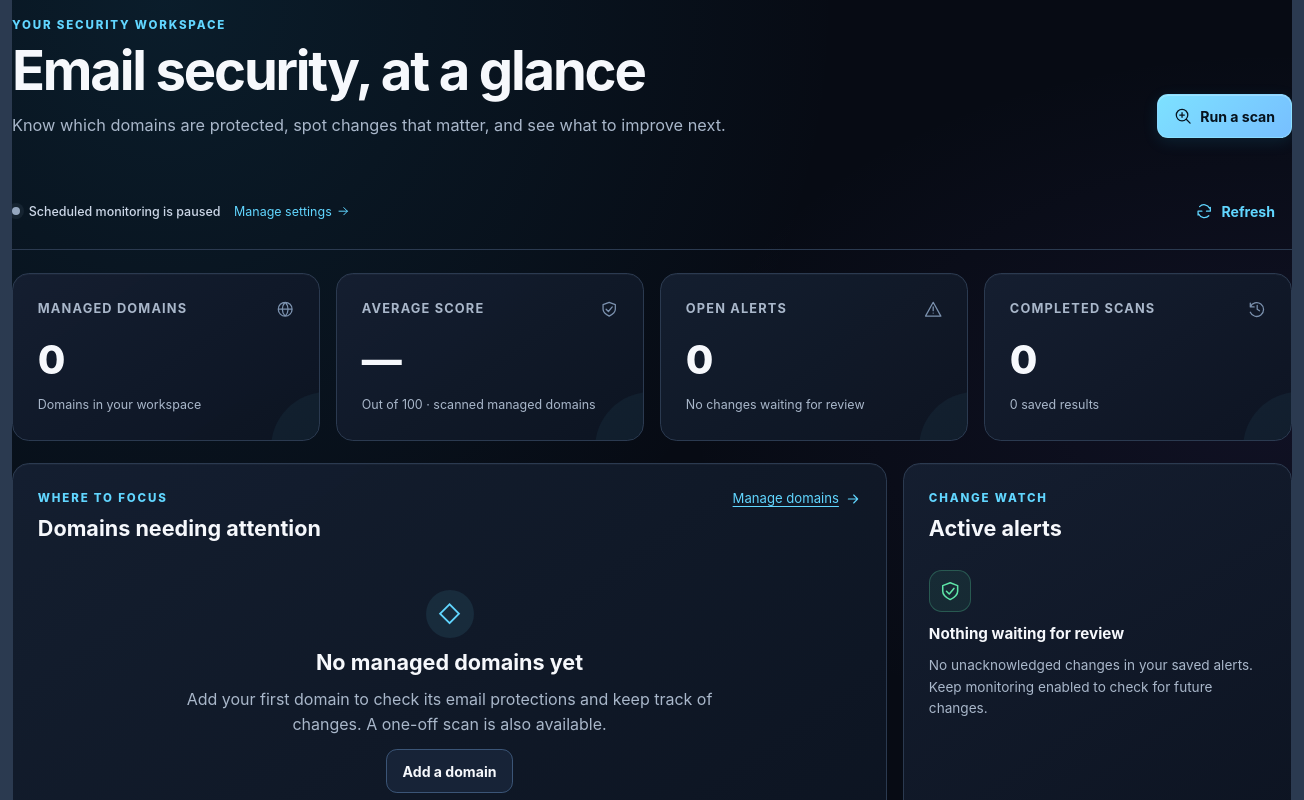
Test: Dashboard overview › refreshes saved data without starting a new domain scan
expect the text "Scheduled monitoring is paused" is shown: met, box [29, 204, 220, 219]
Step 1. Click the button with aria-label "Refresh overview" → (1235, 211), box [1178, 189, 1292, 233]
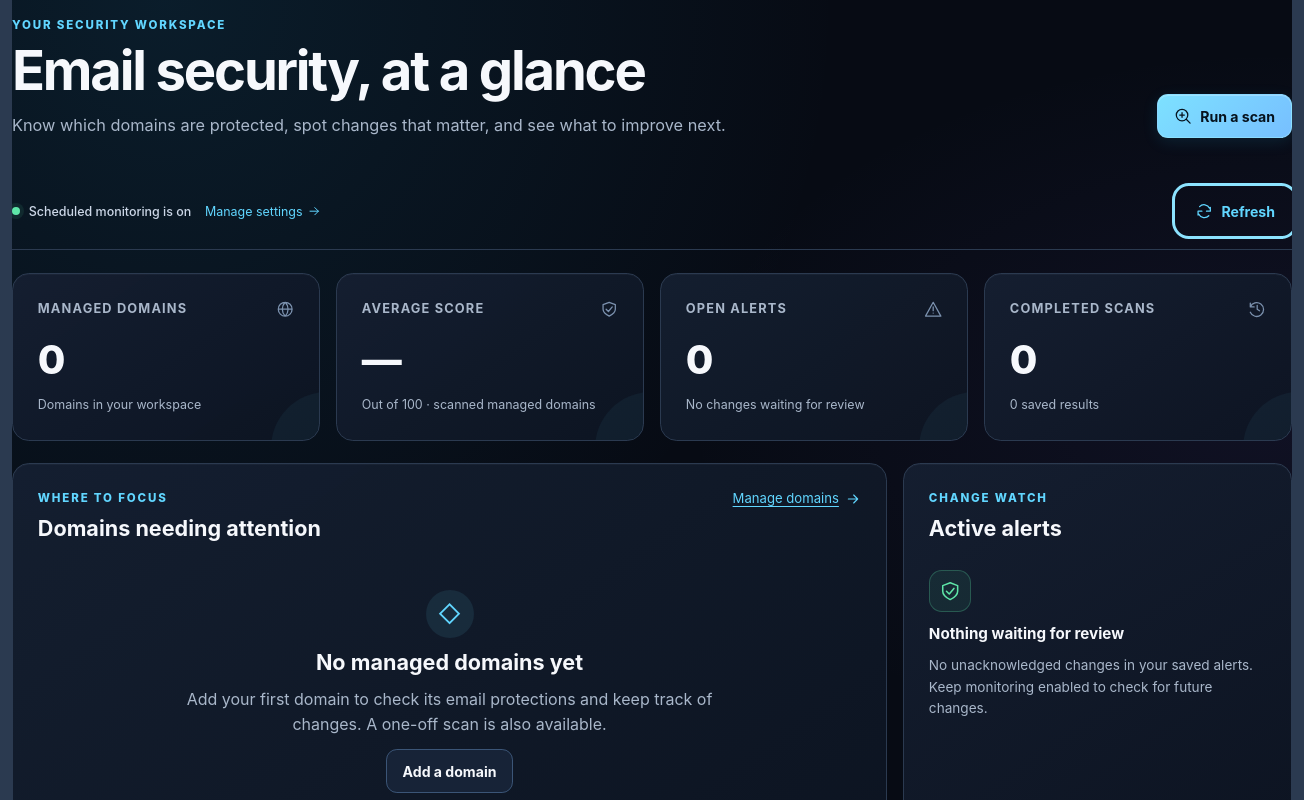
expect the text "Scheduled monitoring is on" is shown: met, box [29, 204, 191, 219]
